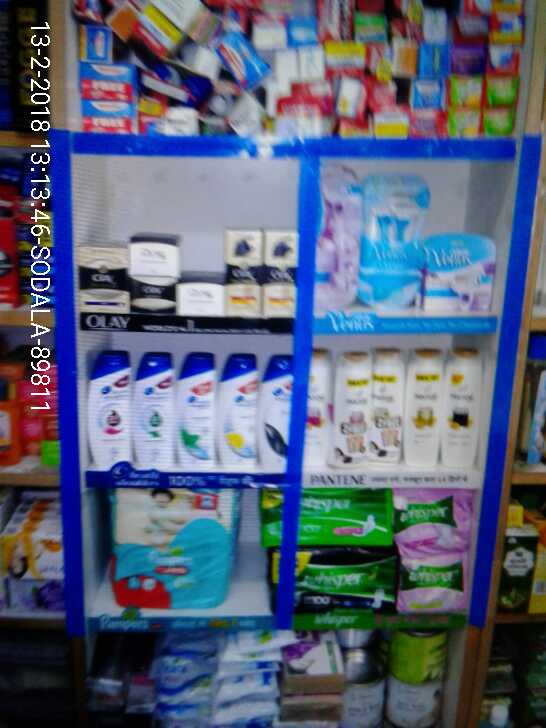venus: (358, 171, 422, 313), (299, 171, 358, 307), (422, 239, 496, 313)
